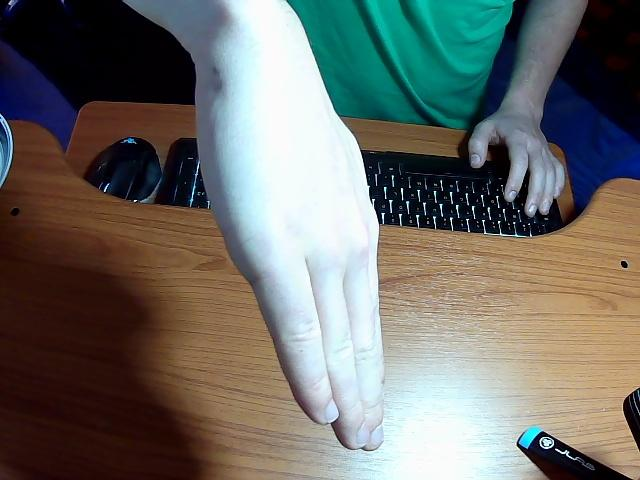paper: (129, 0, 384, 449)
